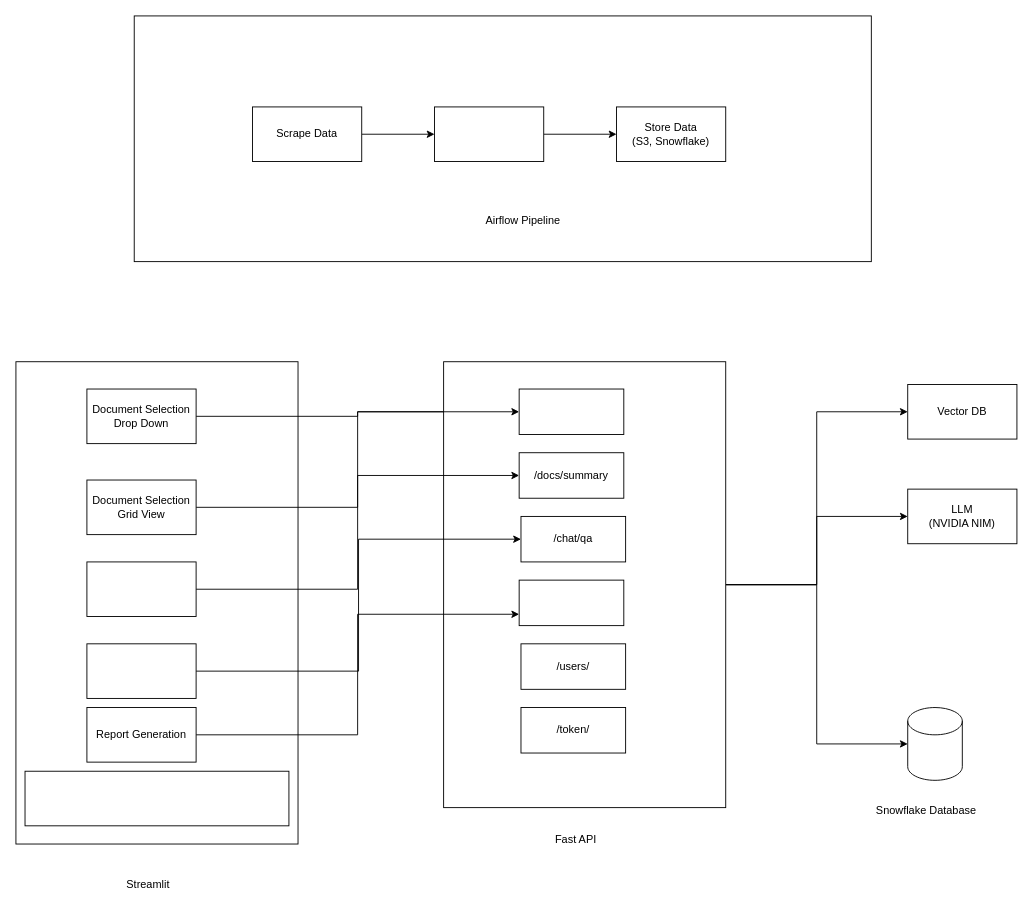
This 1033x915 diagram has some shape labels left out. The centre of each missing label's shape, as x and y in pixels:
/chat/report: point 571,602
/docs/list: point 571,411
Extract Media + Metadata: point 489,134
Question Answering Interface: point 141,670
Summary Generation: point 141,589
User Registration + Login || JWT Tokens: point 156,798
